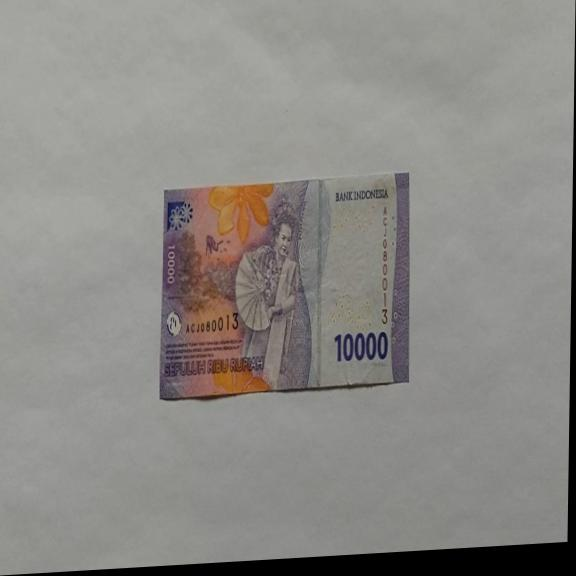Kertas: (159, 170, 412, 402), (333, 327, 389, 364)
